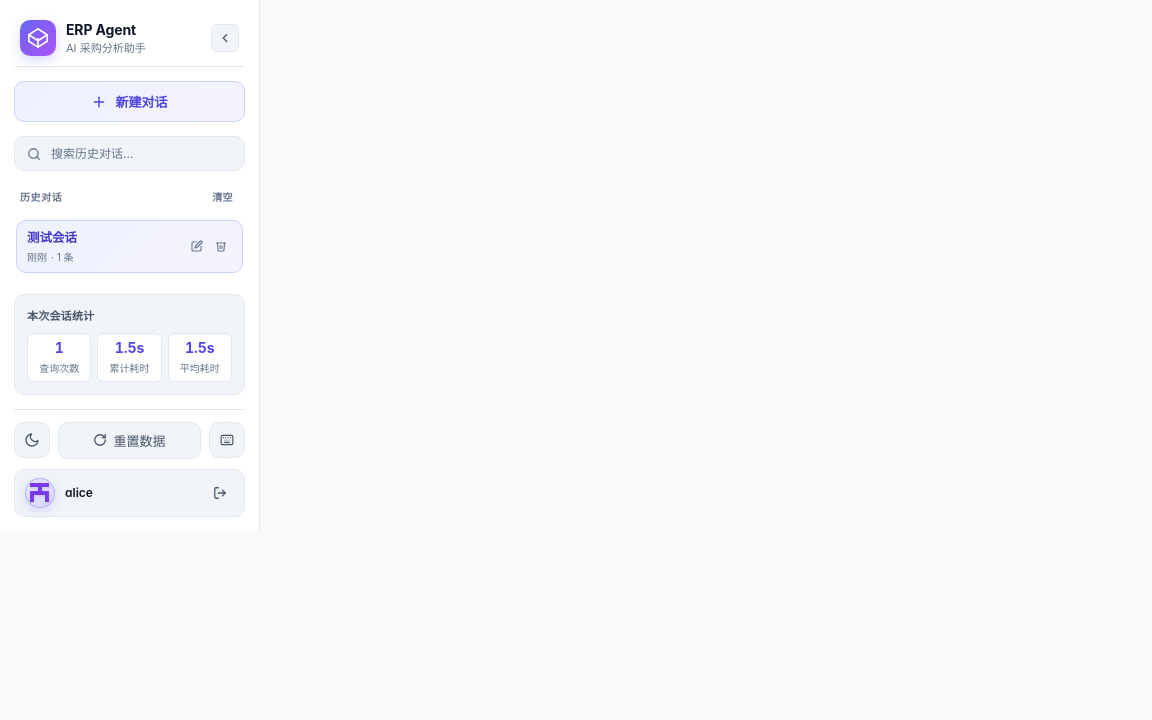
it: Sidebar — delete session › shows confirm dialog when delete is clicked
What coordinates should you click on to do the following:
click the button named "删除对话"
I would click on:
 (221, 246)
Its box is top-left (210, 235), bottom-right (232, 257).
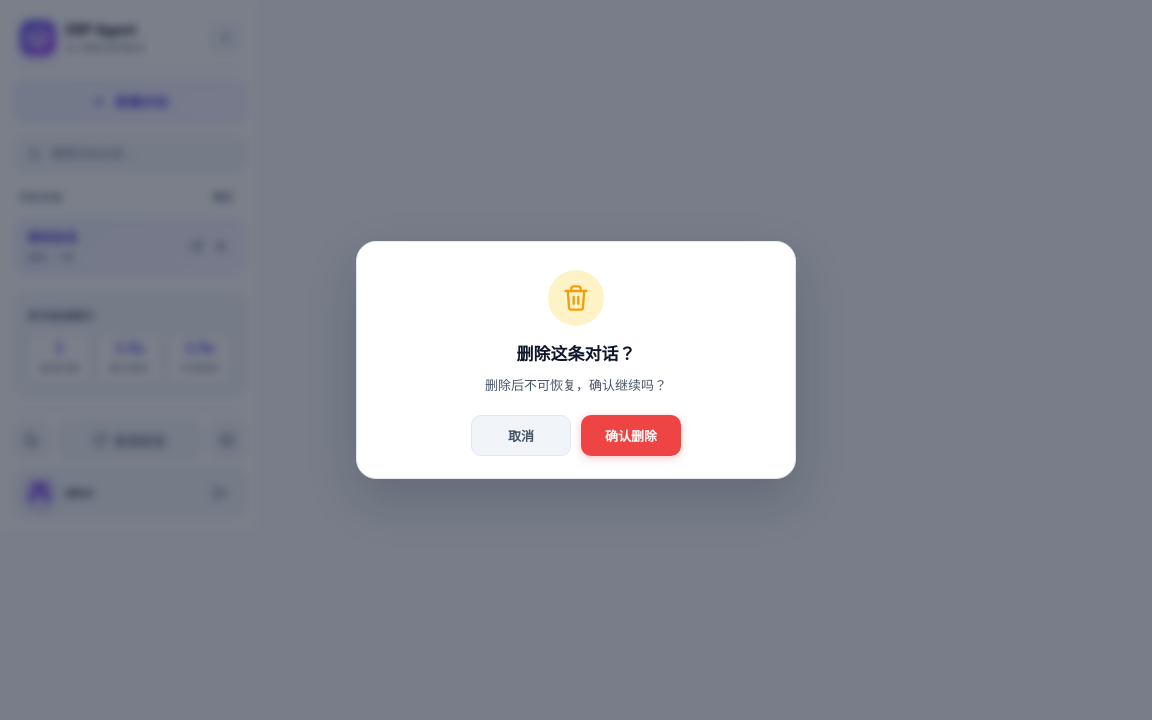
Check: the heading "删除这条对话？" is shown, box top-left (516, 344), bottom-right (636, 364)
Check: the button "确认删除" is shown, box top-left (581, 415), bottom-right (681, 456)
